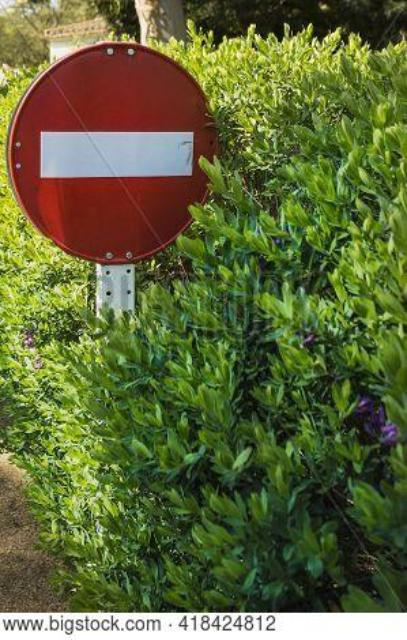B2: (4, 38, 220, 266)
